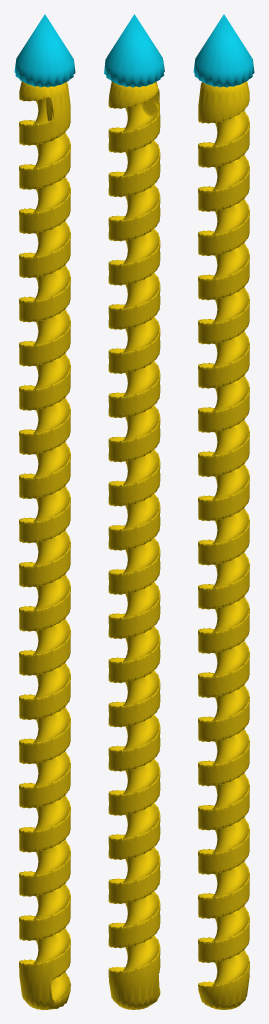
File: Staff_Of_Seas_Final.fbx
The picture shows the model from 3 angles, left to right: view 1: azimuth 90°, elevation 25°; view 2: azimuth 150°, elevation 25°; view 3: azimuth 270°, elevation 25°; orthographic projection.
Parts seen in each view (by area): view 1: polySurface1, polySurface2; view 2: polySurface1, polySurface2; view 3: polySurface1, polySurface2.
Boxes of the visible parts, x1,y1,x2,y2 form: polySurface1: (19,81,70,1009); polySurface2: (14,14,75,87); polySurface1: (108,81,160,1009); polySurface2: (104,14,164,87); polySurface1: (198,81,249,1009); polySurface2: (193,14,254,87).
Bounding box in the file's own units: 0.3021 × 5.4 × 0.3021.
